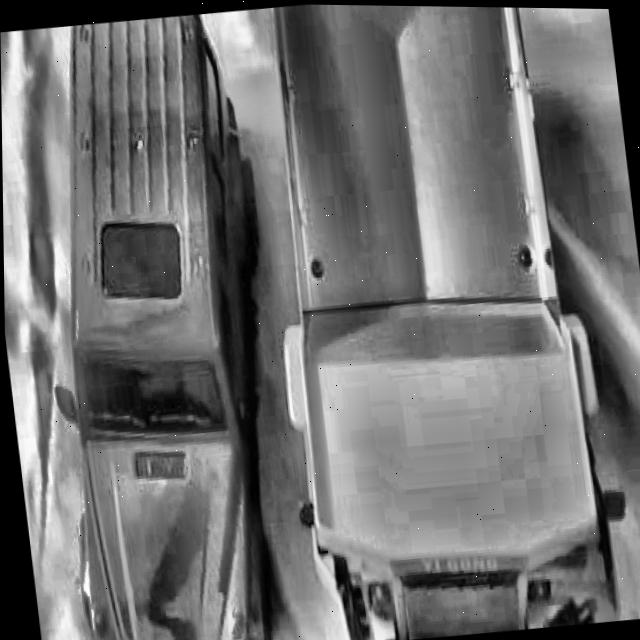dump_truck: (250, 3, 624, 640)
light_vehicle: (21, 10, 284, 640)
